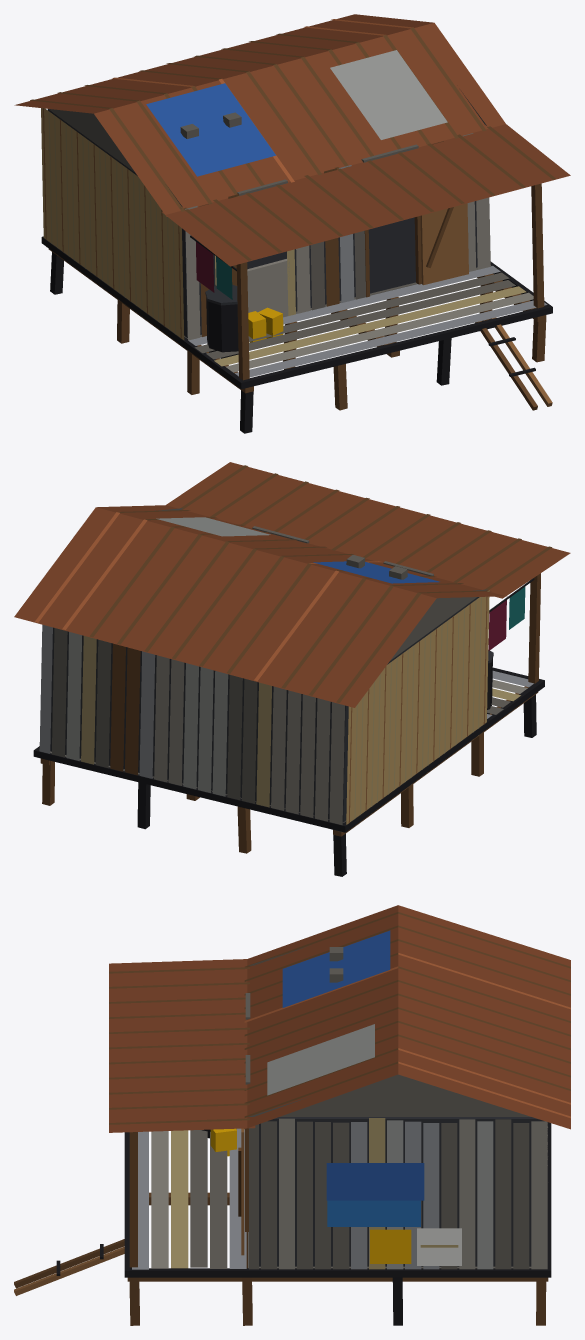
File: building_makoko-house_a.6af9788aab4f.glb
The picture shows the model from 3 angles, top to bottom: view 1: azimuth 30°, elevation 25°; view 2: azimuth 150°, elevation 25°; view 3: azimuth 270°, elevation 25°; orthographic projection. The views are drawn at different scales.
Parts seen in each view (by area): view 1: body; view 2: body; view 3: body.
Boxes of the visible parts, bbox=[...] form: body: bbox=[14, 14, 570, 433]; body: bbox=[14, 462, 570, 876]; body: bbox=[14, 905, 570, 1325].
Size of the model in its own units: 5.62 by 3.82 by 7.41.
